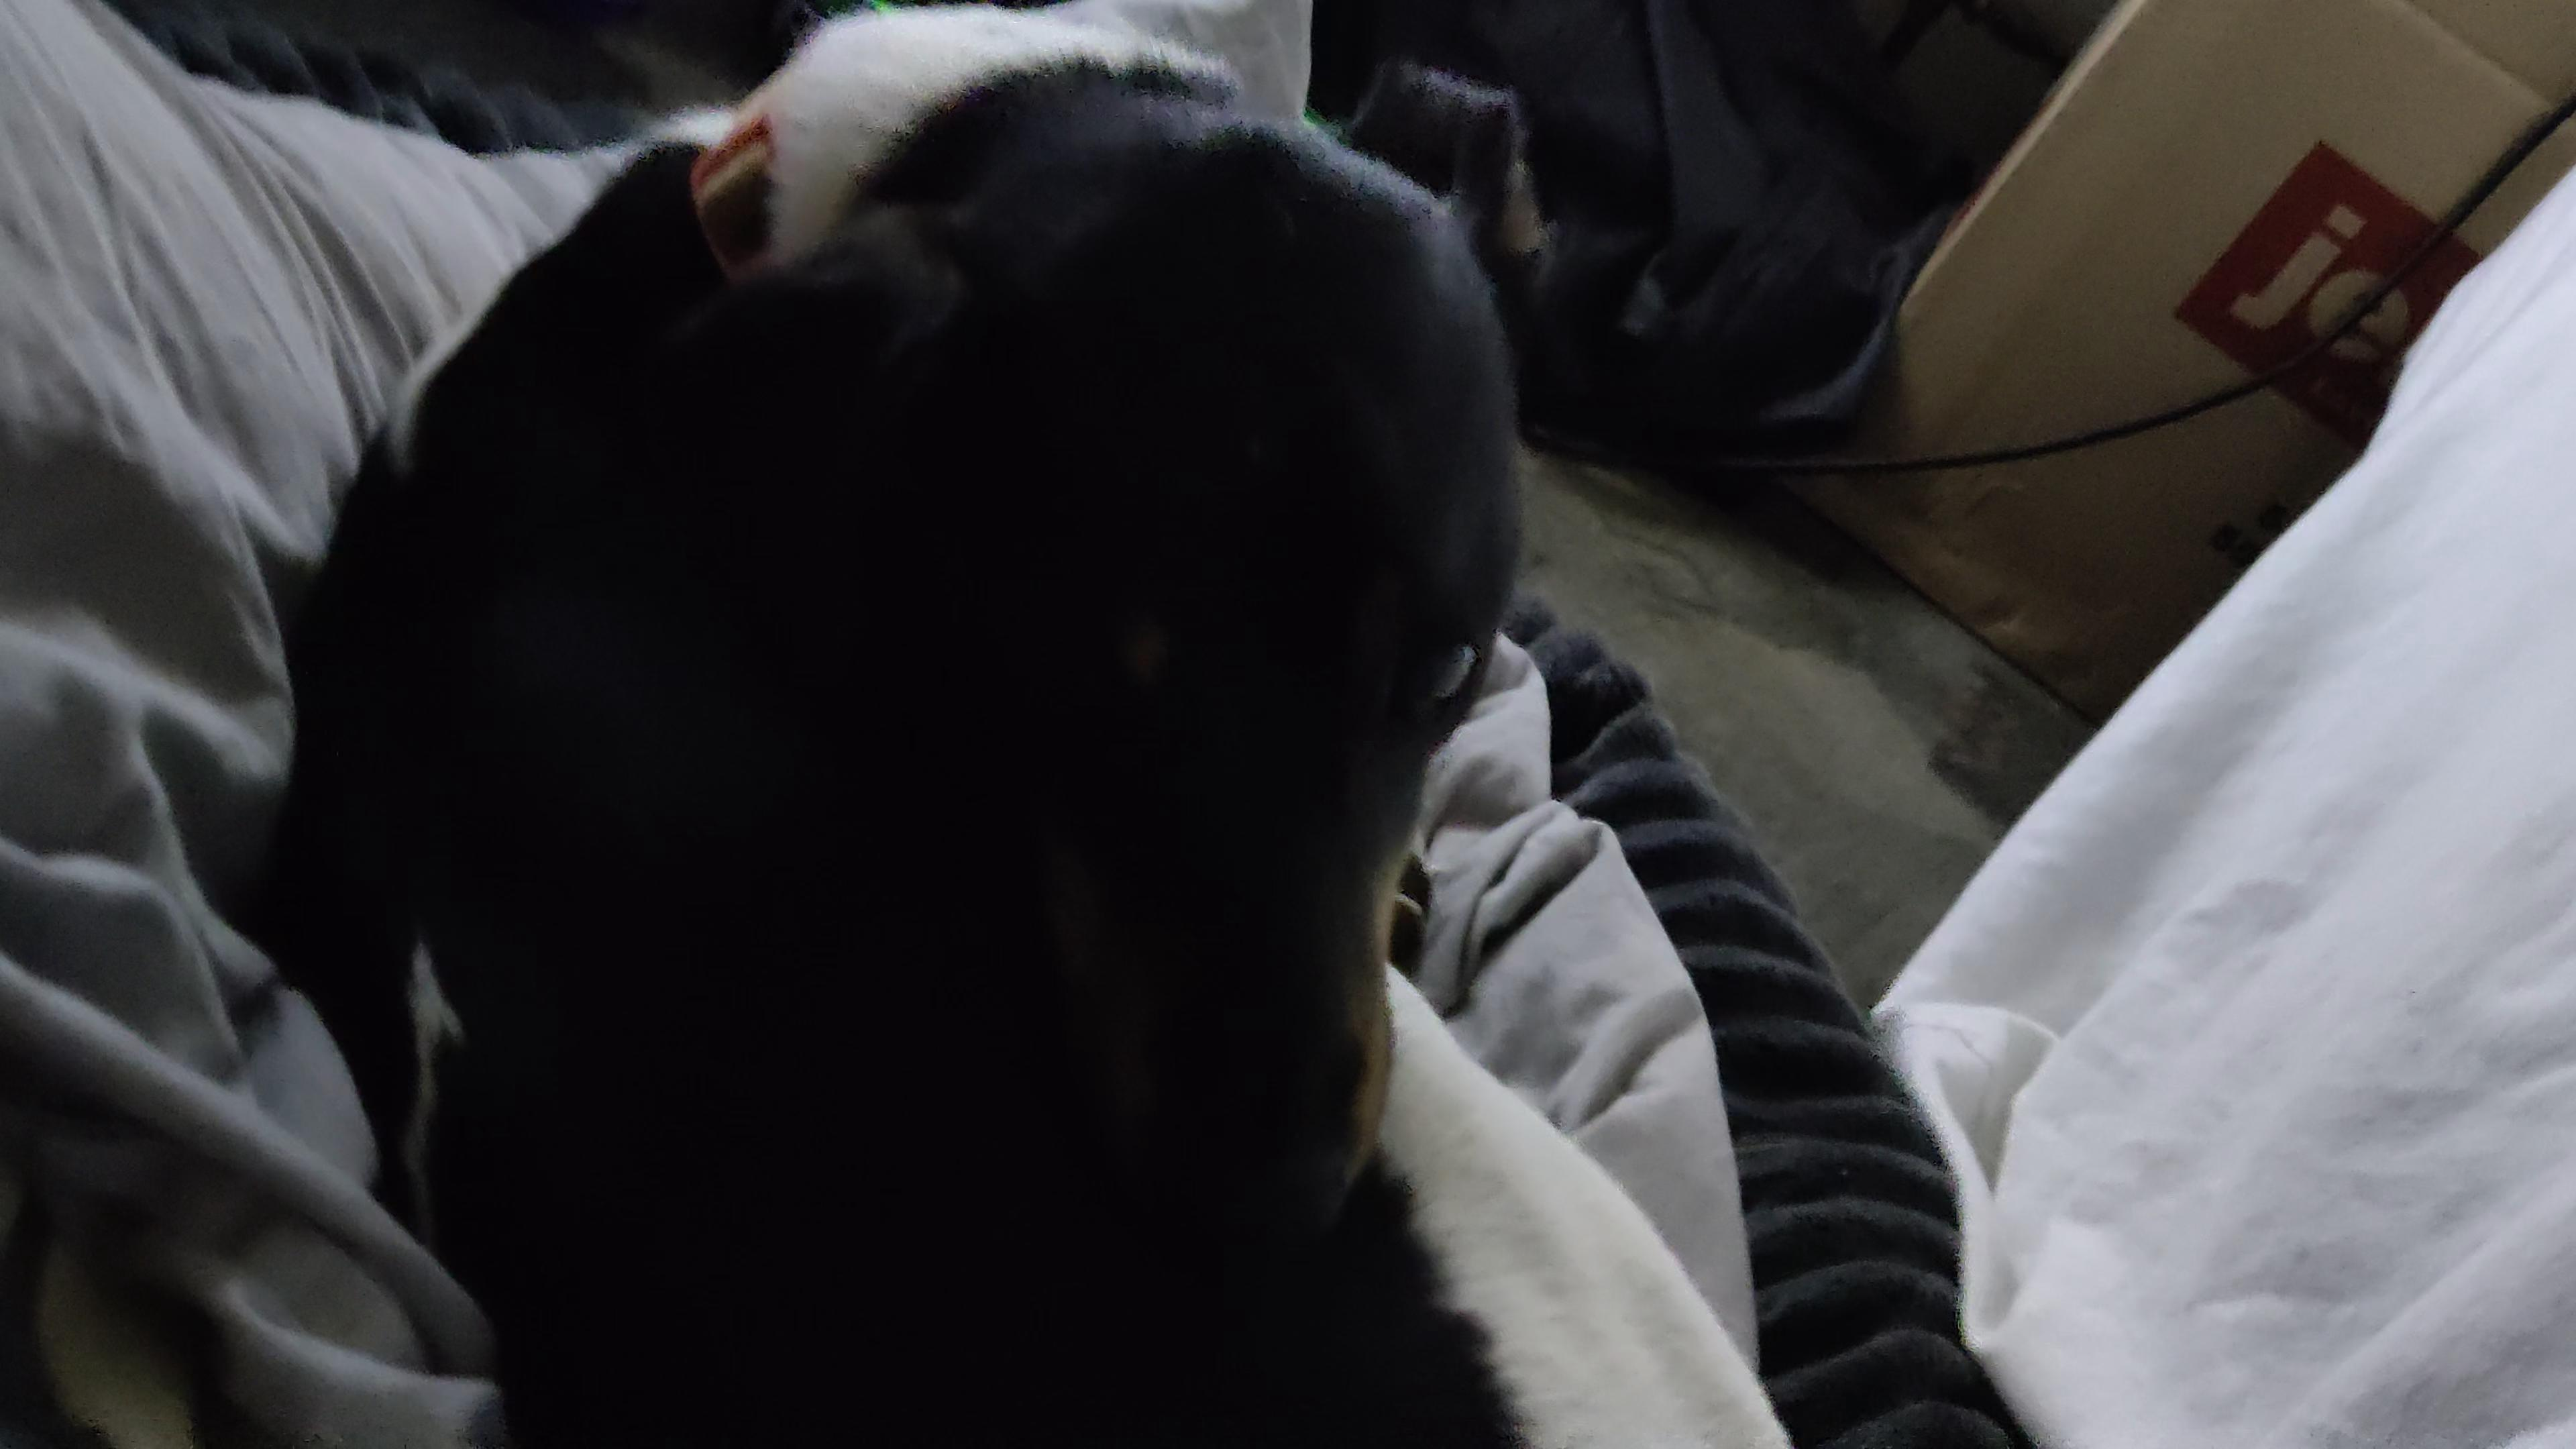Dog: (241, 0, 1821, 1449)
